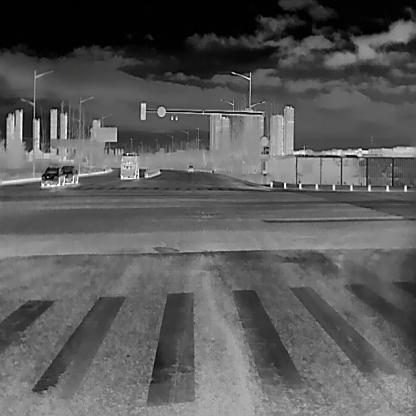car: (41, 164, 65, 185), (120, 152, 139, 178), (60, 164, 77, 183), (187, 164, 194, 172)
